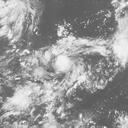cyclone: (30, 36, 103, 95), (111, 36, 127, 62)
